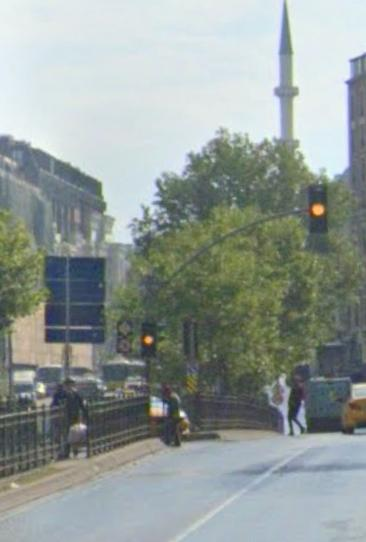yellowlight: (309, 185, 329, 232), (143, 323, 157, 355)
